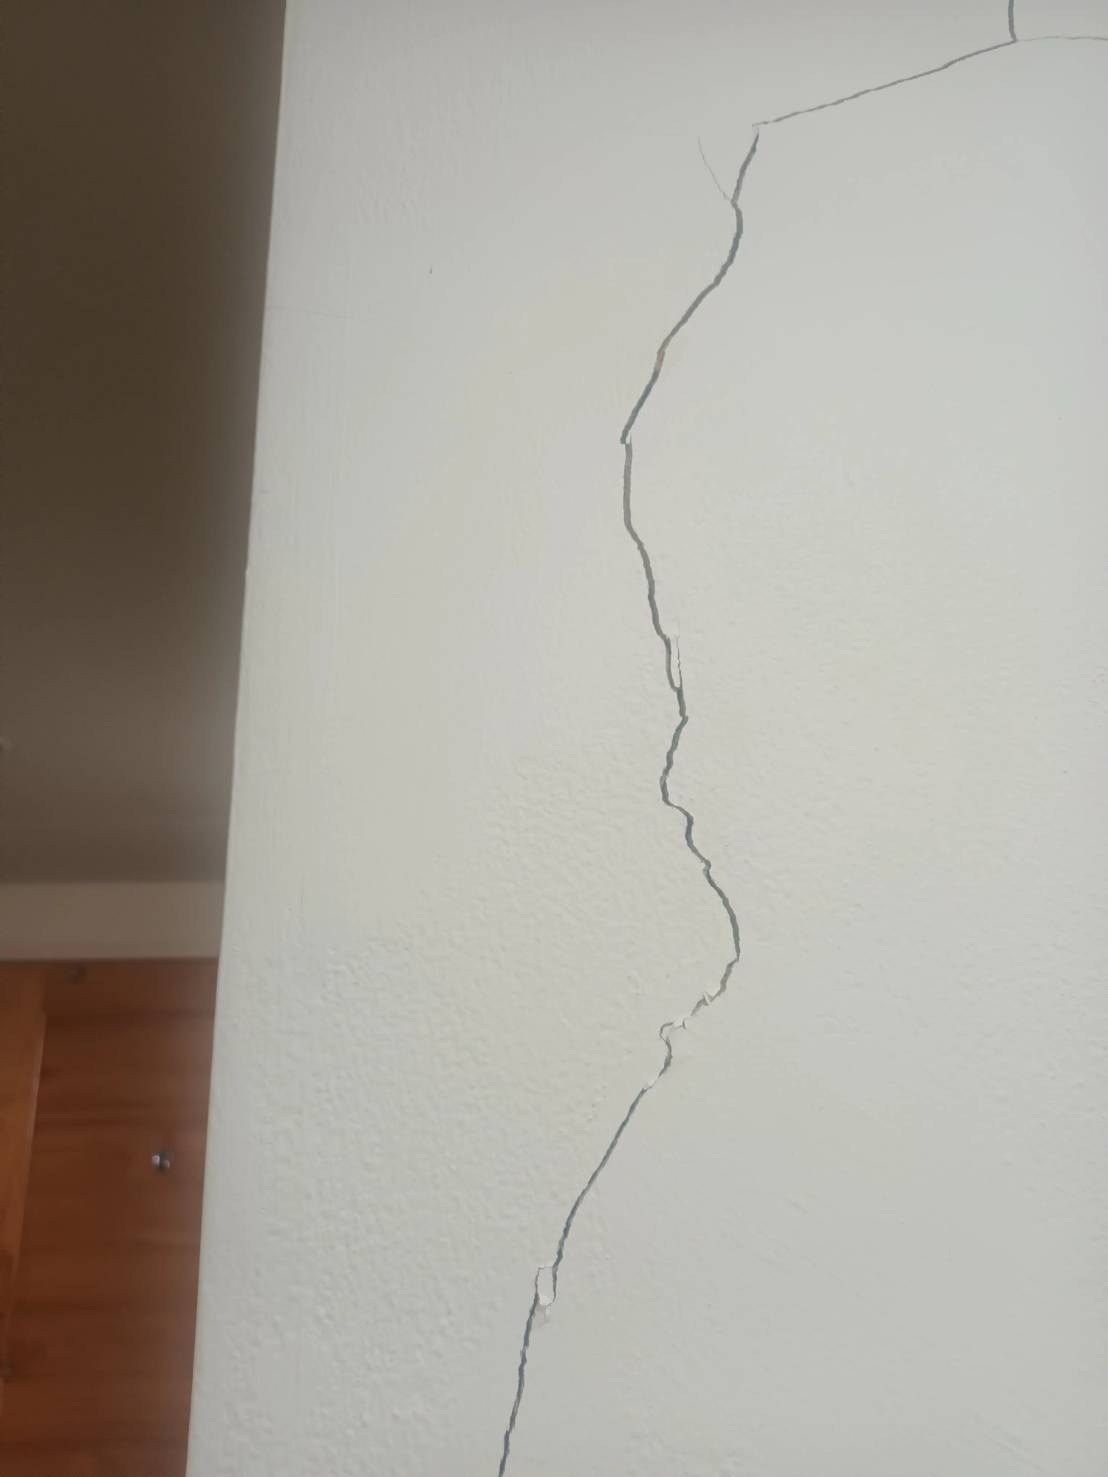Low: (473, 1, 1108, 1471)
